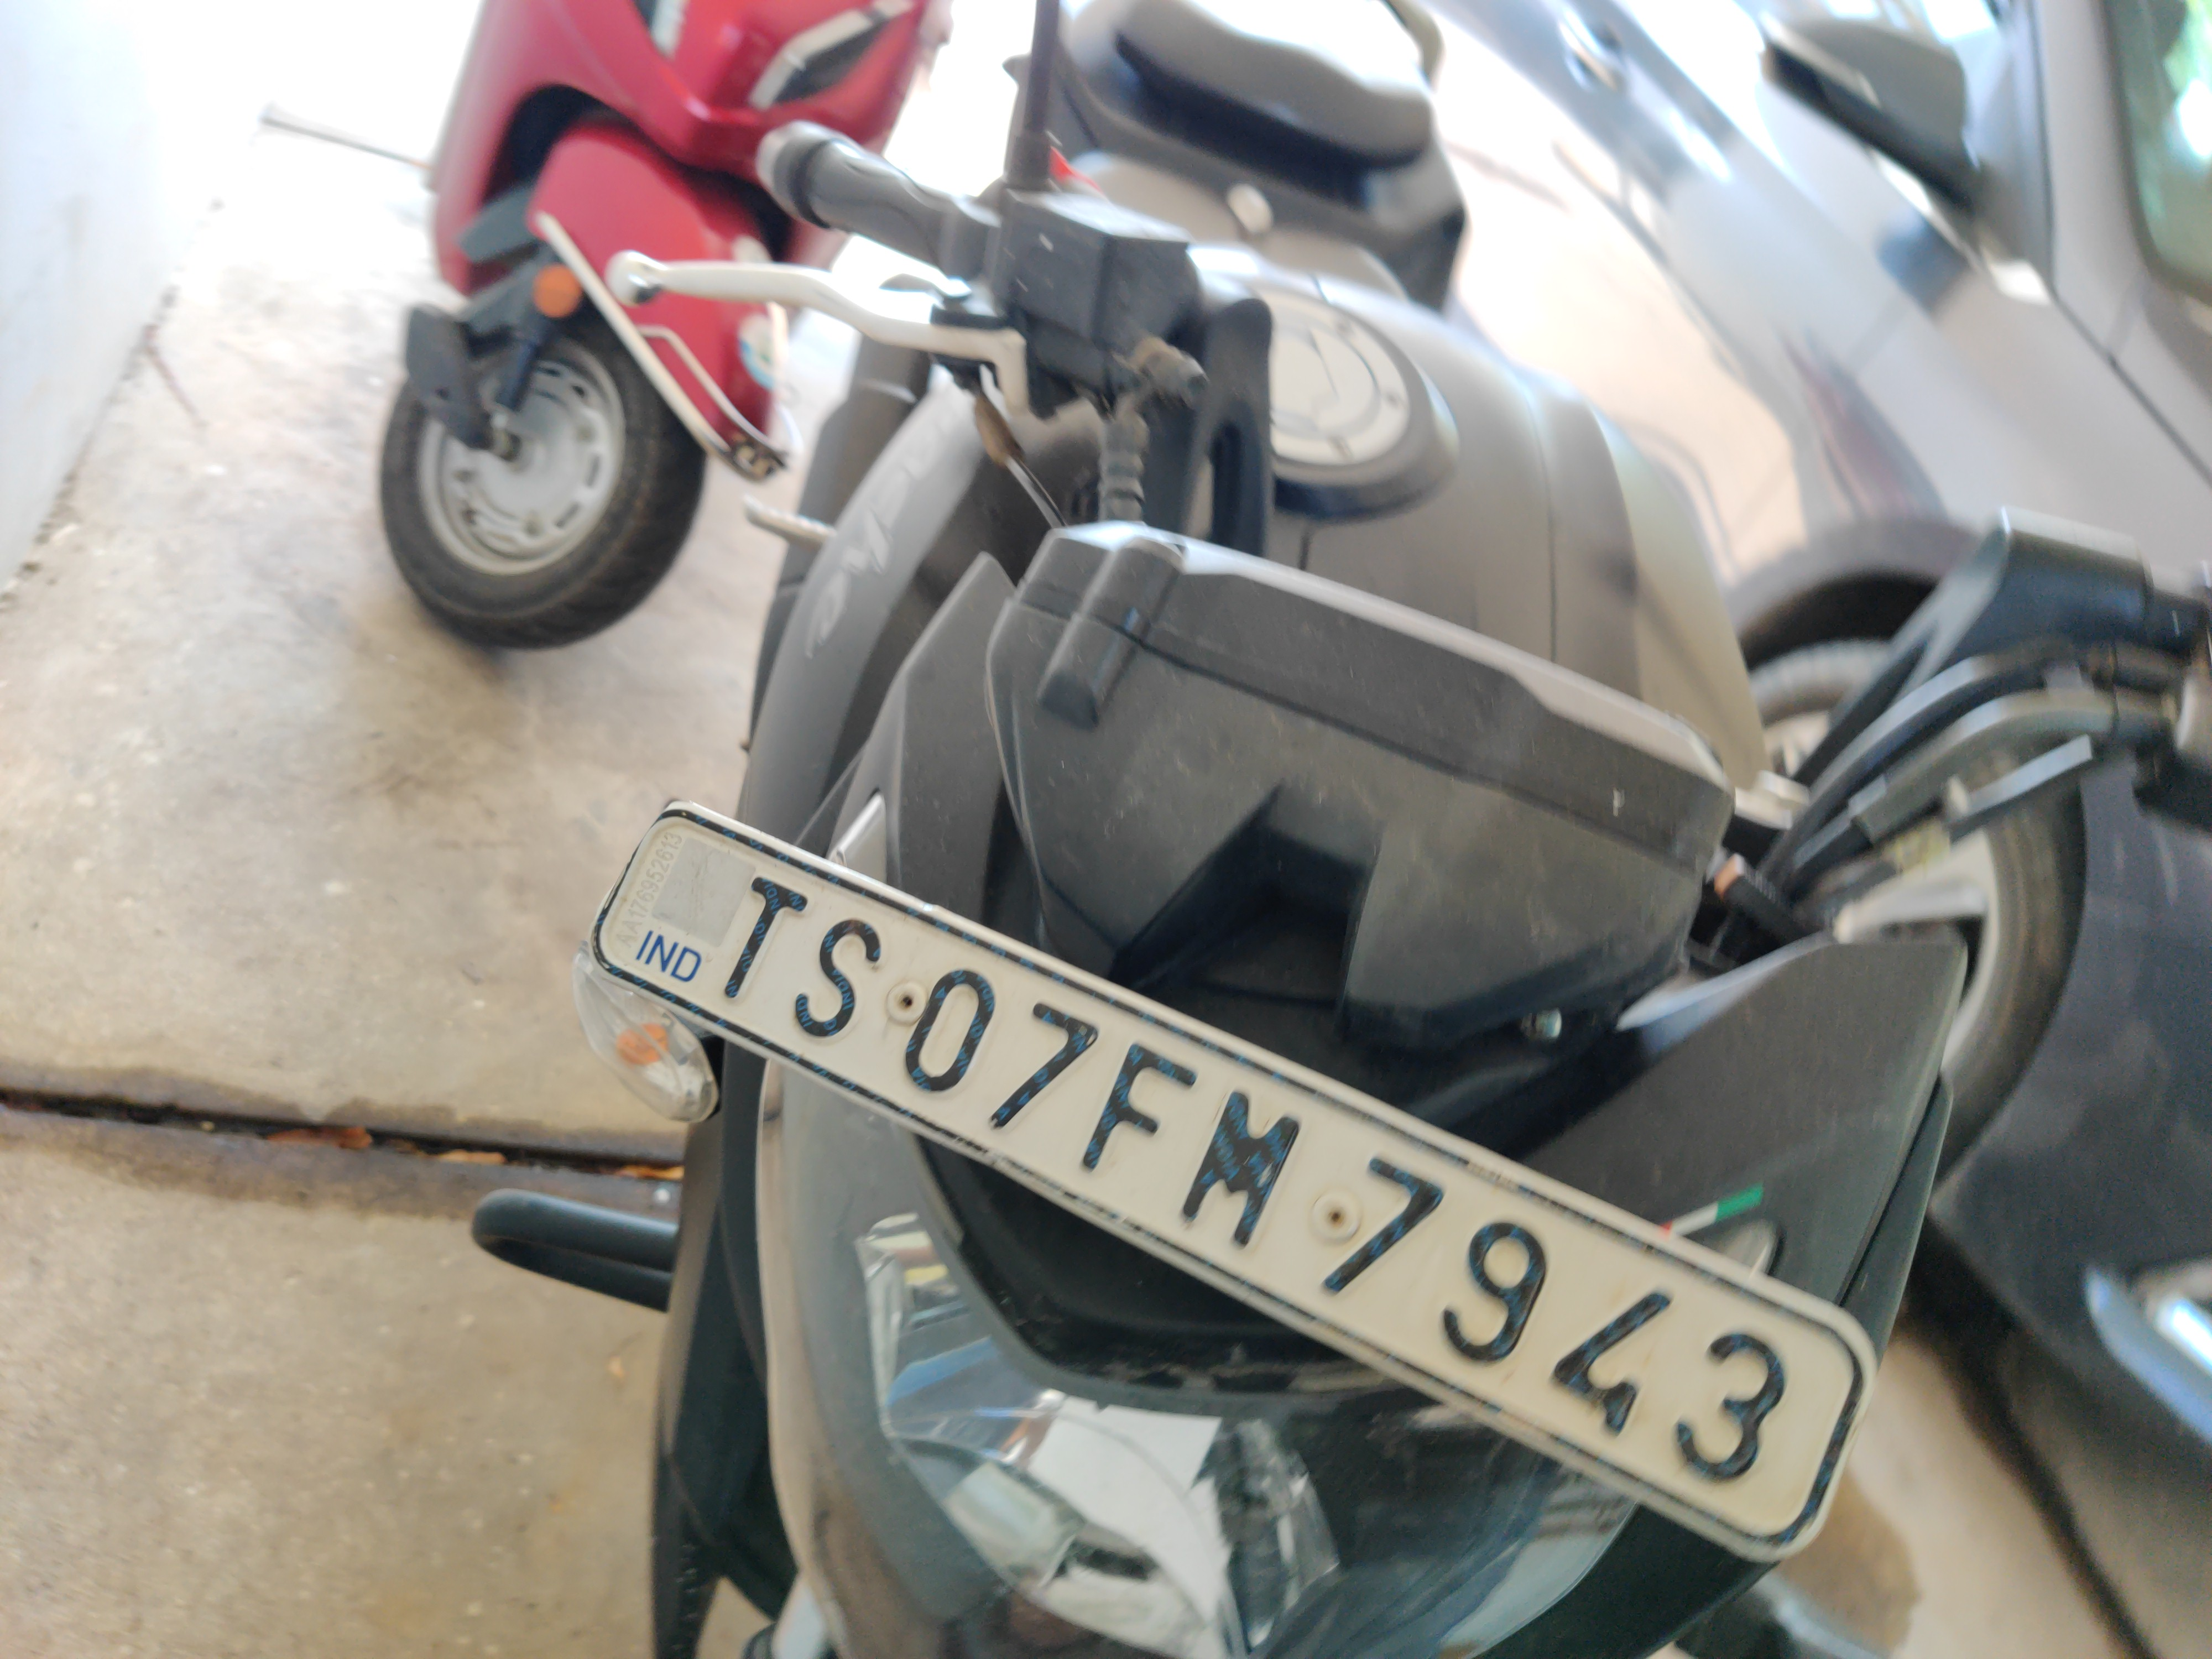plate: (571, 795, 1885, 1587)
